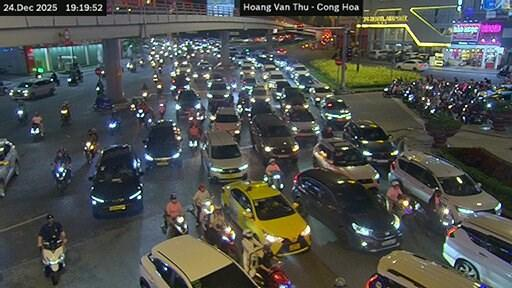motorbike: (246, 246, 291, 286), (204, 225, 239, 260), (41, 238, 64, 283), (162, 211, 188, 238), (54, 162, 70, 190), (262, 171, 282, 188), (83, 140, 96, 162), (92, 95, 112, 108), (29, 122, 41, 140), (106, 118, 118, 135), (16, 107, 26, 125), (61, 107, 70, 126), (135, 108, 144, 124), (188, 134, 198, 148), (496, 67, 508, 76), (67, 75, 76, 85), (125, 62, 134, 72), (384, 85, 391, 97), (159, 103, 165, 117), (50, 75, 58, 85), (156, 82, 162, 94), (141, 90, 147, 98), (152, 73, 157, 82), (138, 58, 143, 67), (130, 103, 134, 111), (157, 66, 162, 72)
